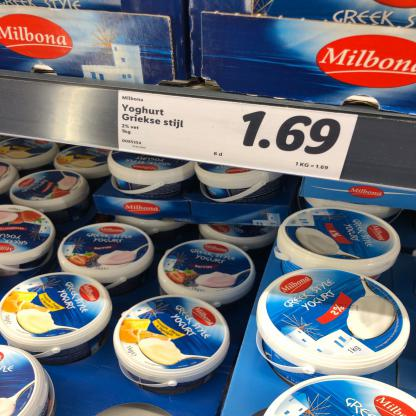prtg: (119, 91, 359, 182)
